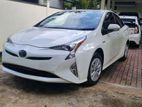car: (1, 7, 130, 91)
